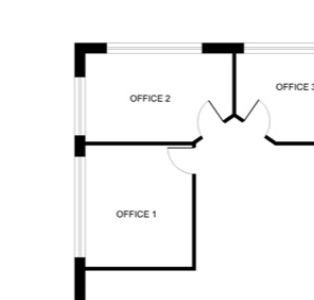door: (160, 140, 203, 185), (240, 92, 273, 142), (188, 99, 228, 140)
window: (99, 33, 208, 65), (65, 150, 95, 262), (234, 32, 314, 64), (70, 71, 89, 139)
